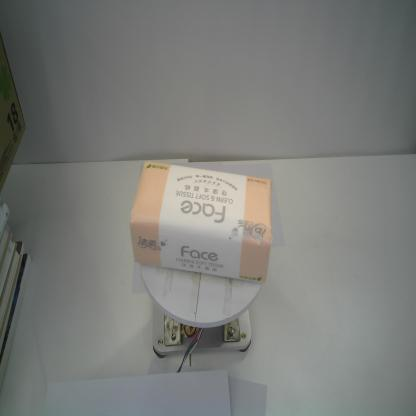Tissue: (129, 160, 272, 284)
